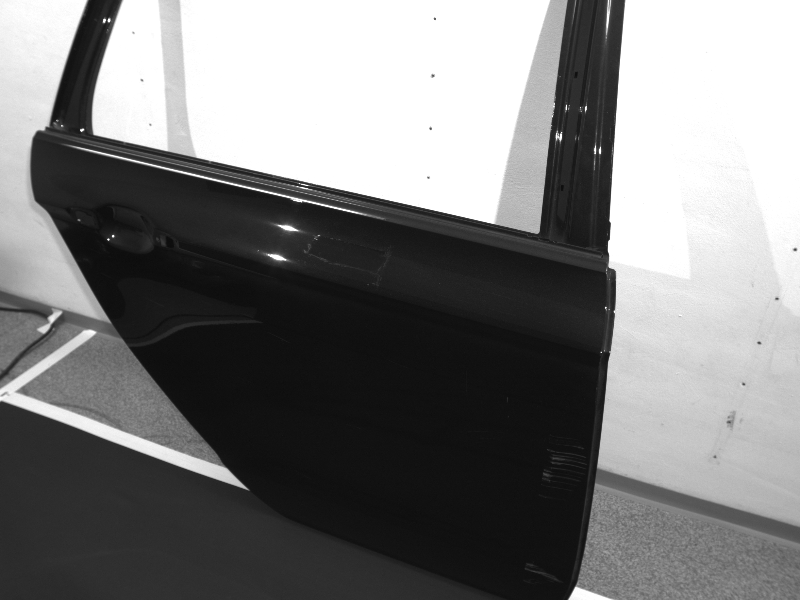scratch: (537, 435, 589, 500), (522, 561, 565, 588), (269, 333, 291, 344)
